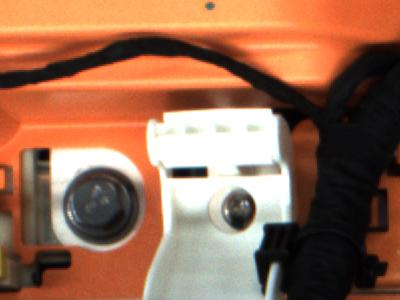nut_b: (61, 170, 144, 249)
